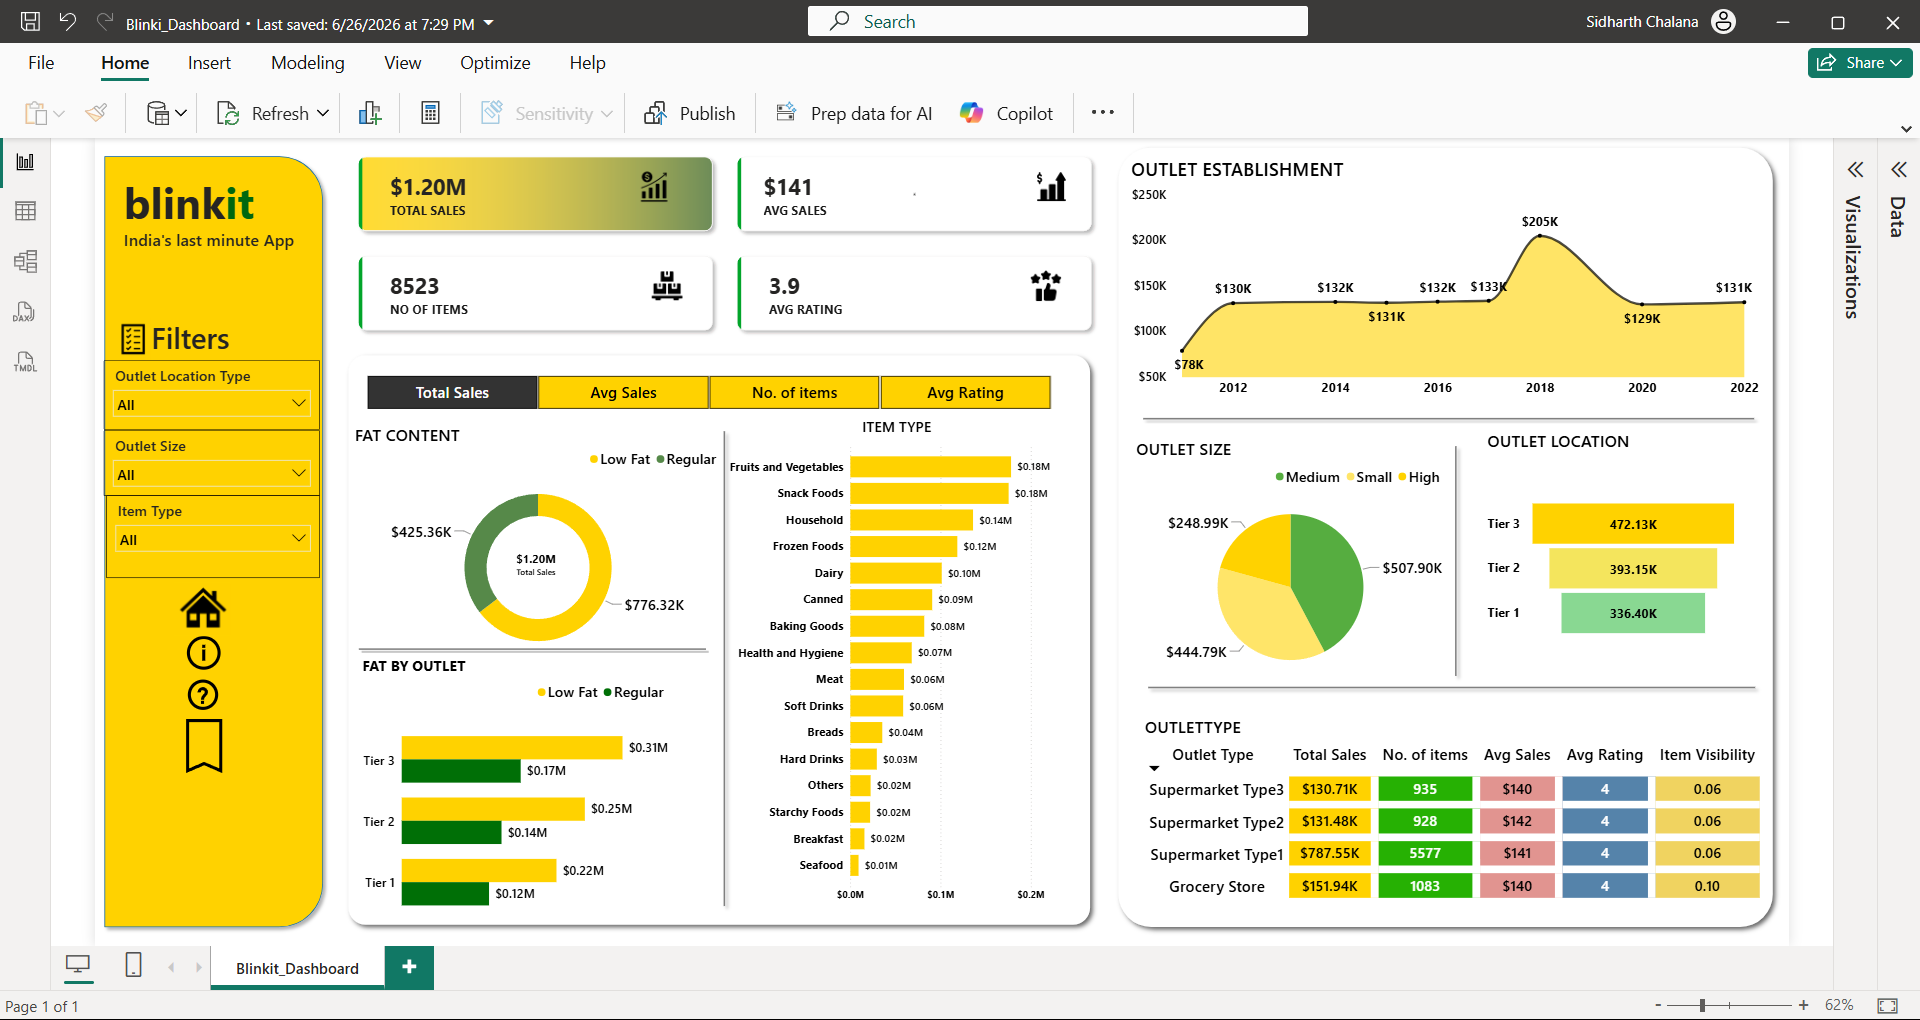

Layout of this report page (visuals, bound fields, positions):
{"tool":"powerbi","page":{"name":"Blinkit_Dashboard","canvas":[2200,1050],"ordinal":0},"visuals":[{"type":"shape","box":[3.2,14.6,301.9,1019.5],"z":0},{"type":"textbox","box":[32.5,39,193.2,99],"z":1000},{"type":"textbox","box":[32.5,112,241.9,51.9],"z":2000},{"type":"cardVisual","fields":{"Data":["BlinkIT Grocery Data.Total Sales","BlinkIT Grocery Data.Avg Sales","BlinkIT Grocery Data.No. of items","BlinkIT Grocery Data.Avg Rating"]},"box":[318.2,0,1000,276],"z":3000},{"type":"shape","box":[318.1,271.6,985.2,761.6],"z":4000},{"type":"donutChart","title":"FAT CONTENT","fields":{"Y":["BlinkIT Grocery Data.Total Sales"],"Category":["BlinkIT Grocery Data.Item Fat Content"]},"box":[337.7,370.7,475.5,312.5],"z":5000},{"type":"slicer","fields":{"Values":["Metrics.Metrics"]},"box":[328.4,302.6,937,56.7],"z":6000},{"type":"cardVisual","fields":{"Data":["BlinkIT Grocery Data.Total Sales"]},"box":[518.2,518.2,110.6,71.8],"z":7000},{"type":"clusteredBarChart","title":"FAT BY OUTLET","fields":{"Y":["BlinkIT Grocery Data.Total Sales"],"Category":["BlinkIT Grocery Data.Outlet Location Type"],"Series":["BlinkIT Grocery Data.Item Fat Content"]},"box":[342.1,672.2,407.5,364.5],"z":8000},{"type":"barChart","title":"ITEM TYPE","fields":{"Y":["BlinkIT Grocery Data.Total Sales"],"Category":["BlinkIT Grocery Data.Item Type"]},"box":[818.2,362,446.4,639.6],"z":9000},{"type":"shape","box":[1318.2,1.6,871.8,1034.1],"z":10000},{"type":"lineChart","title":"OUTLET ESTABLISHMENT","fields":{"Category":["BlinkIT Grocery Data.Outlet Establishment Year"],"Y":["BlinkIT Grocery Data.Total Sales"]},"box":[1341.1,24.1,825.3,321.5],"z":11000},{"type":"donutChart","title":"OUTLET SIZE","fields":{"Y":["BlinkIT Grocery Data.Total Sales"],"Category":["BlinkIT Grocery Data.Outlet Size"]},"box":[1353.1,388.6,400.6,321.5],"z":12000},{"type":"funnel","title":"OUTLET LOCATION","fields":{"Y":["Sum(BlinkIT Grocery Data.Sales)"],"Category":["BlinkIT Grocery Data.Outlet Location Type"]},"box":[1803.5,378.2,335.3,331.8],"z":13000},{"type":"pivotTable","title":"OUTLETTYPE","fields":{"Rows":["BlinkIT Grocery Data.Outlet Type"],"Values":["BlinkIT Grocery Data.Total Sales","BlinkIT Grocery Data.No. of items","BlinkIT Grocery Data.Avg Sales","BlinkIT Grocery Data.Avg Rating","Avg(BlinkIT Grocery Data.Item Visibility)"]},"box":[1363.4,749.6,827,287.1],"z":14000},{"type":"slicer","fields":{"Values":["BlinkIT Grocery Data.Outlet Location Type"]},"box":[11.4,289,280.8,89.3],"z":15000},{"type":"slicer","fields":{"Values":["BlinkIT Grocery Data.Outlet Size"]},"box":[11.4,379.9,280.8,84.4],"z":16000},{"type":"slicer","fields":{"Values":["BlinkIT Grocery Data.Item Type"]},"box":[14.6,464.3,277.6,107.1],"z":17000},{"type":"textbox","box":[68.2,228.9,172.1,63.3],"z":18000},{"type":"actionButton","title":"cfghygvhbhb","box":[116,696,50,53],"z":19000},{"type":"actionButton","box":[113.6,628.2,55.2,81.2],"z":20000},{"type":"actionButton","box":[14.6,228.9,68.2,63.3],"z":21000},{"type":"actionButton","box":[99,571.4,92.5,81.2],"z":22000},{"type":"actionButton","box":[99,725,86,128],"z":23000},{"type":"shape","box":[696.4,371.8,241.9,634.7],"z":24000},{"type":"shape","box":[337,653.3,460.8,22.4],"z":25000},{"type":"shape","box":[1353.1,355.9,811.5,15.5],"z":26000},{"type":"shape","box":[1645.4,392,242.4,316.4],"z":27000},{"type":"shape","box":[1358.2,682.6,806.3,63.6],"z":28000}]}

Visuals, with their boxes on the page's 2200x1050 design canvas (x1, y1, x2, y2). These are canvas units, not pixel positions in the 1920x1020 screenshot, which may show the page scaled, cropped or inside an application window:
shape: 3,15,305,1034
textbox: 32,39,226,138
textbox: 32,112,274,164
cardVisual - BlinkIT Grocery Data.Total Sales x BlinkIT Grocery Data.Avg Sales: 318,0,1318,276
shape: 318,272,1303,1033
"FAT CONTENT" donutChart: 338,371,813,683
slicer - Metrics.Metrics: 328,303,1265,359
cardVisual - BlinkIT Grocery Data.Total Sales: 518,518,629,590
"FAT BY OUTLET" clusteredBarChart: 342,672,750,1037
"ITEM TYPE" barChart: 818,362,1265,1002
shape: 1318,2,2190,1036
"OUTLET ESTABLISHMENT" lineChart: 1341,24,2166,346
"OUTLET SIZE" donutChart: 1353,389,1754,710
"OUTLET LOCATION" funnel: 1804,378,2139,710
"OUTLETTYPE" pivotTable: 1363,750,2190,1037
slicer - BlinkIT Grocery Data.Outlet Location Type: 11,289,292,378
slicer - BlinkIT Grocery Data.Outlet Size: 11,380,292,464
slicer - BlinkIT Grocery Data.Item Type: 15,464,292,571
textbox: 68,229,240,292
"cfghygvhbhb" actionButton: 116,696,166,749
actionButton: 114,628,169,709
actionButton: 15,229,83,292
actionButton: 99,571,192,653
actionButton: 99,725,185,853
shape: 696,372,938,1006
shape: 337,653,798,676
shape: 1353,356,2165,371
shape: 1645,392,1888,708
shape: 1358,683,2164,746
